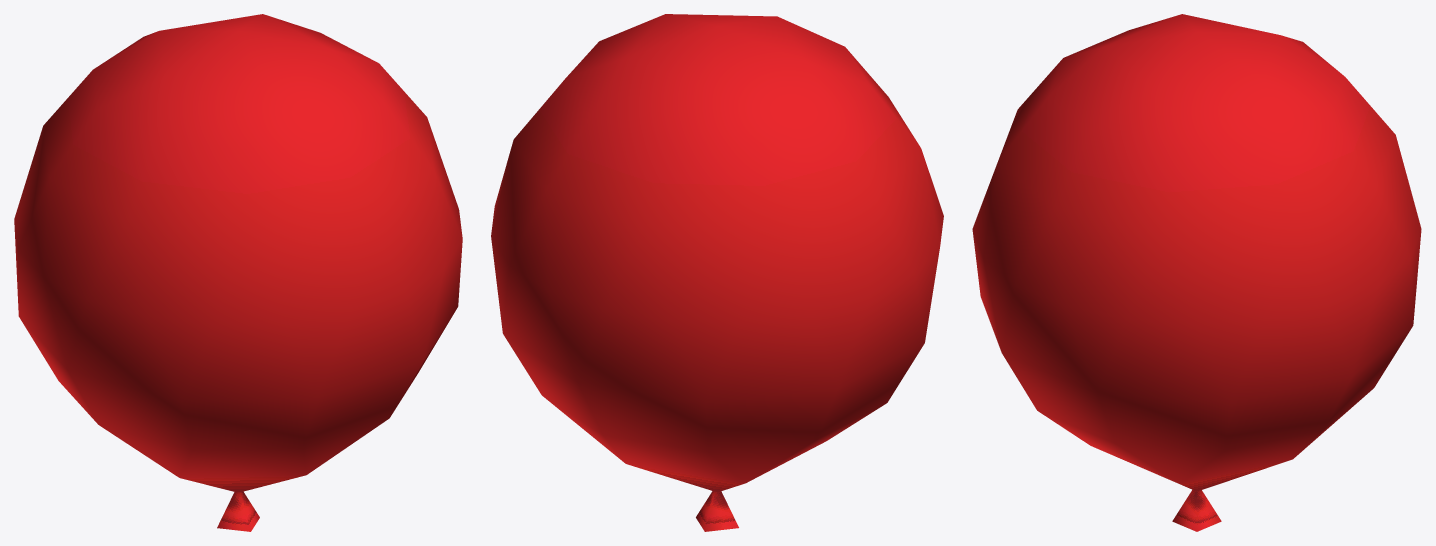
The model's file is cmn_obj_balloonR_SD.obj.
The picture shows the model from 3 angles, left to right: view 1: azimuth 30°, elevation 25°; view 2: azimuth 150°, elevation 25°; view 3: azimuth 270°, elevation 25°; orthographic projection.
Parts seen in each view (by area): view 1: polygon0; view 2: polygon0; view 3: polygon0.
Part boxes in pixels (x1,y1,x2,y2): polygon0: (14,14,462,531); polygon0: (491,14,943,531); polygon0: (972,14,1421,531).
Size of the model in its own units: 10.03 by 12.07 by 10.03.
Materials: 1 (1 with a texture image).
